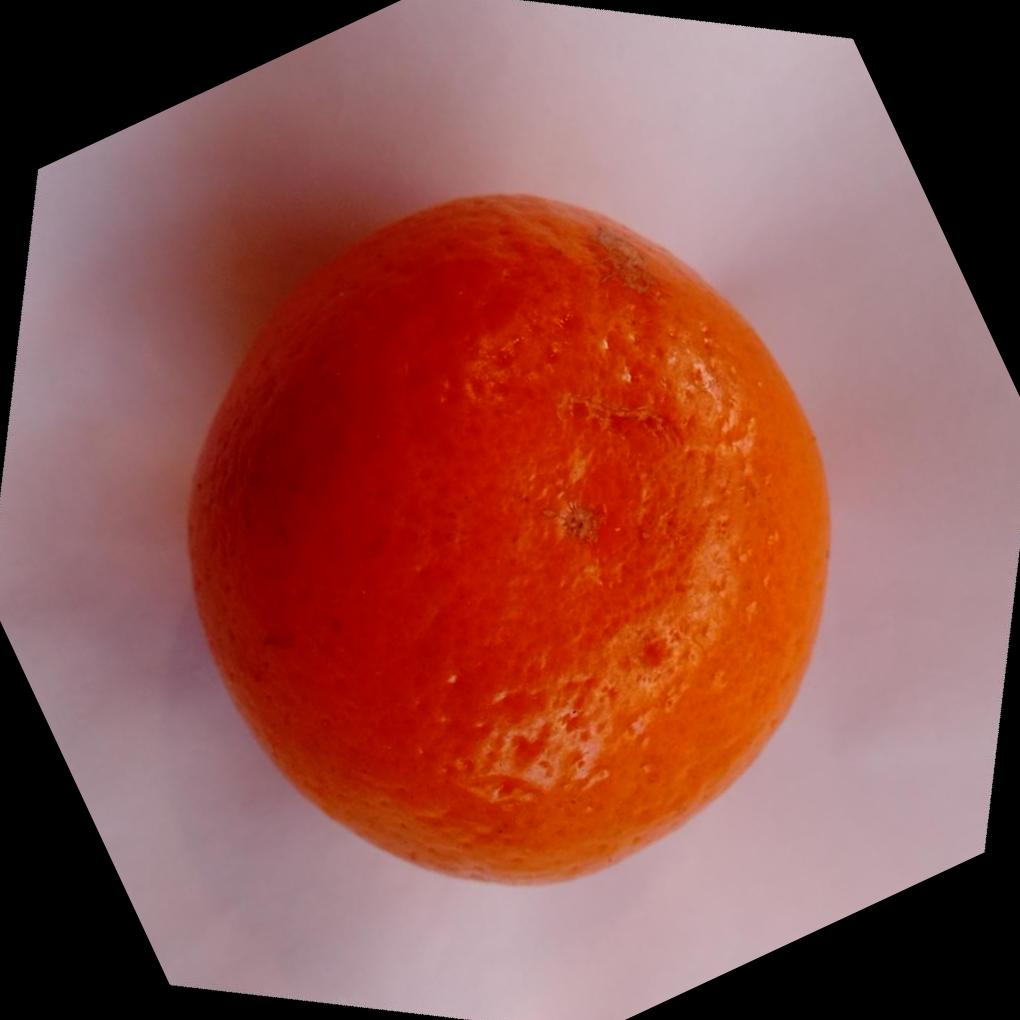FreshGuava: (182, 186, 830, 885)
